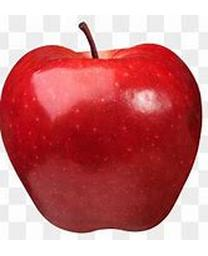apple: (0, 25, 203, 234)
